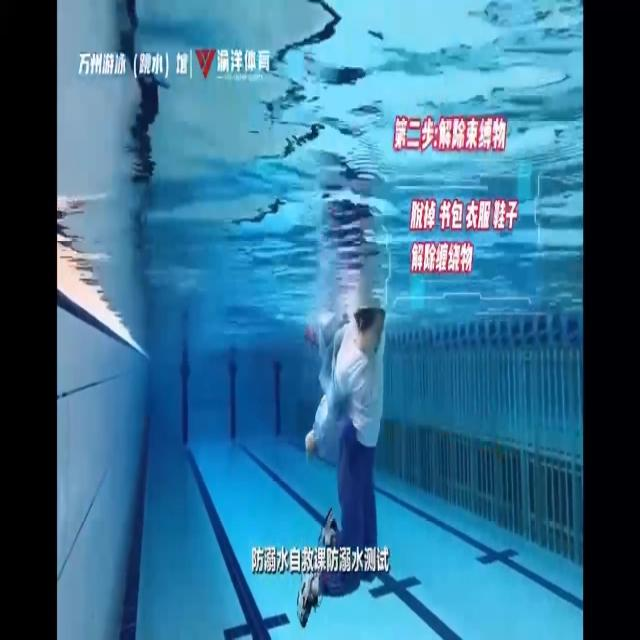Drowning: (297, 306, 388, 630)
